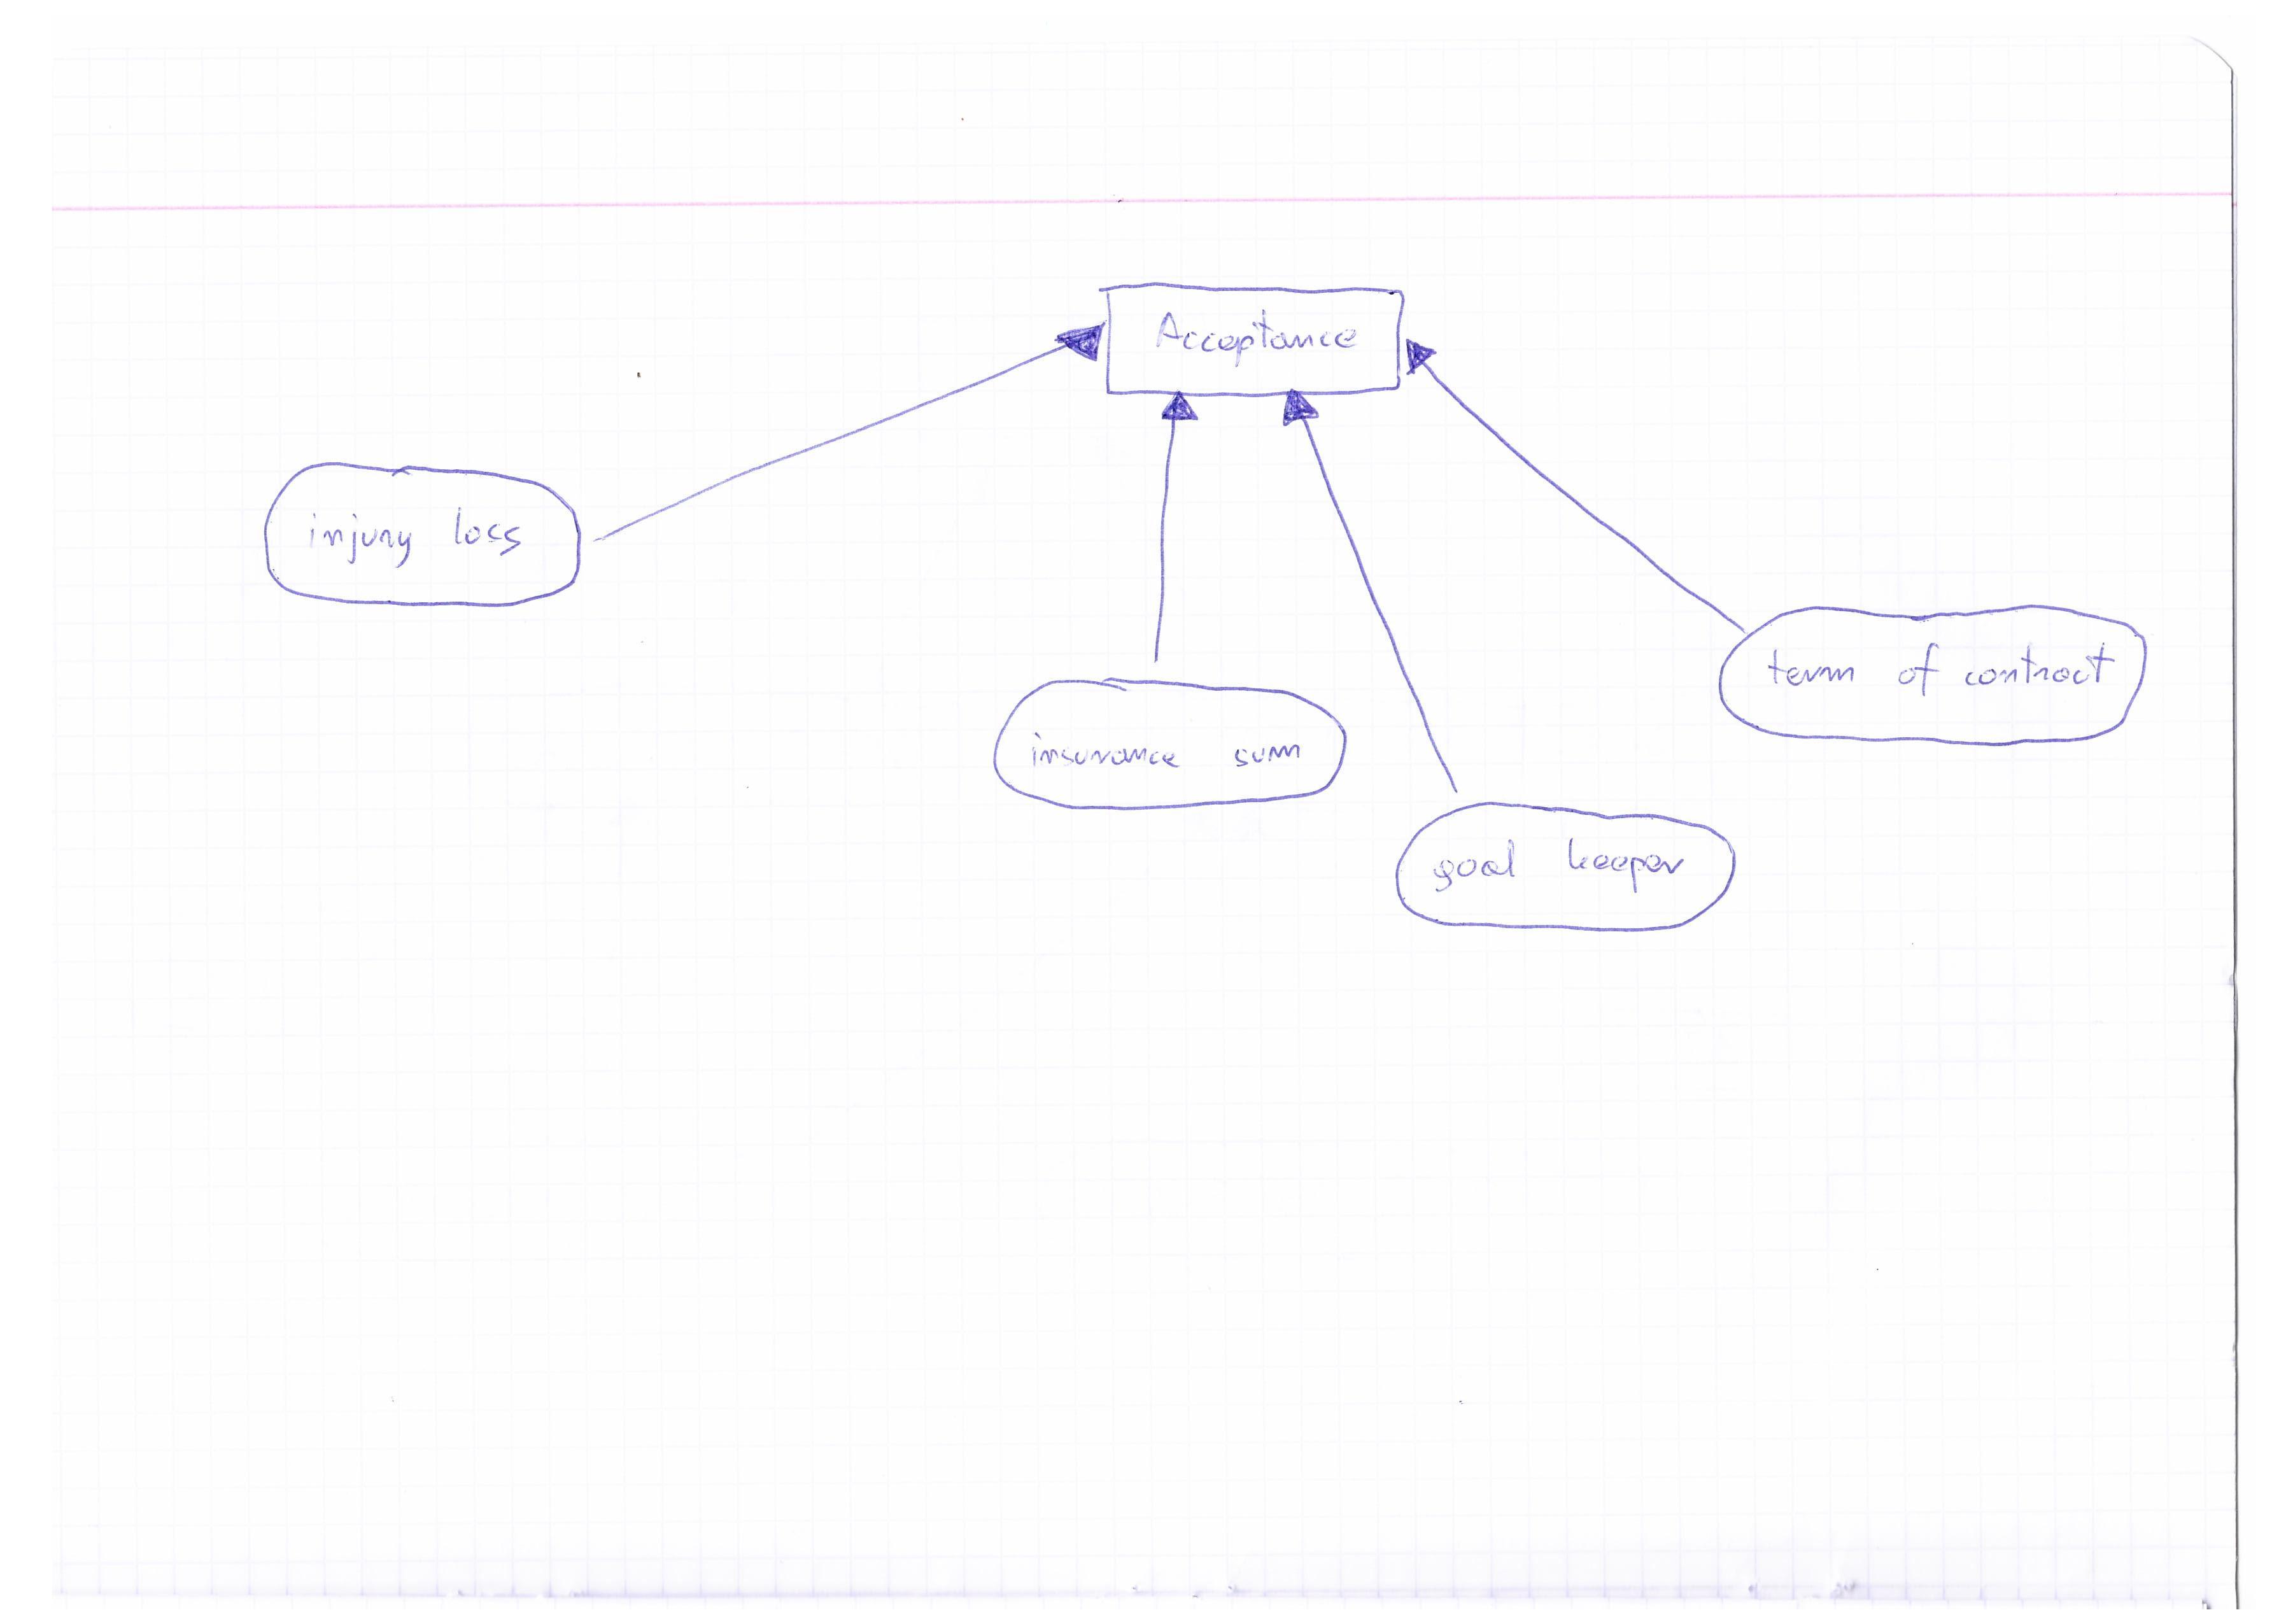arrow_information_requirement: (594, 309, 1114, 548), (1402, 336, 1750, 640), (1270, 380, 1467, 803), (1126, 385, 1204, 671)
node_decision: (1102, 272, 1409, 399)
node_input_data: (1713, 596, 2167, 747), (972, 666, 1355, 824), (255, 455, 589, 617), (1385, 798, 1755, 940)
text: (1759, 636, 2123, 710), (295, 497, 541, 580), (1427, 830, 1696, 905), (1021, 715, 1316, 784), (1146, 301, 1367, 373)
